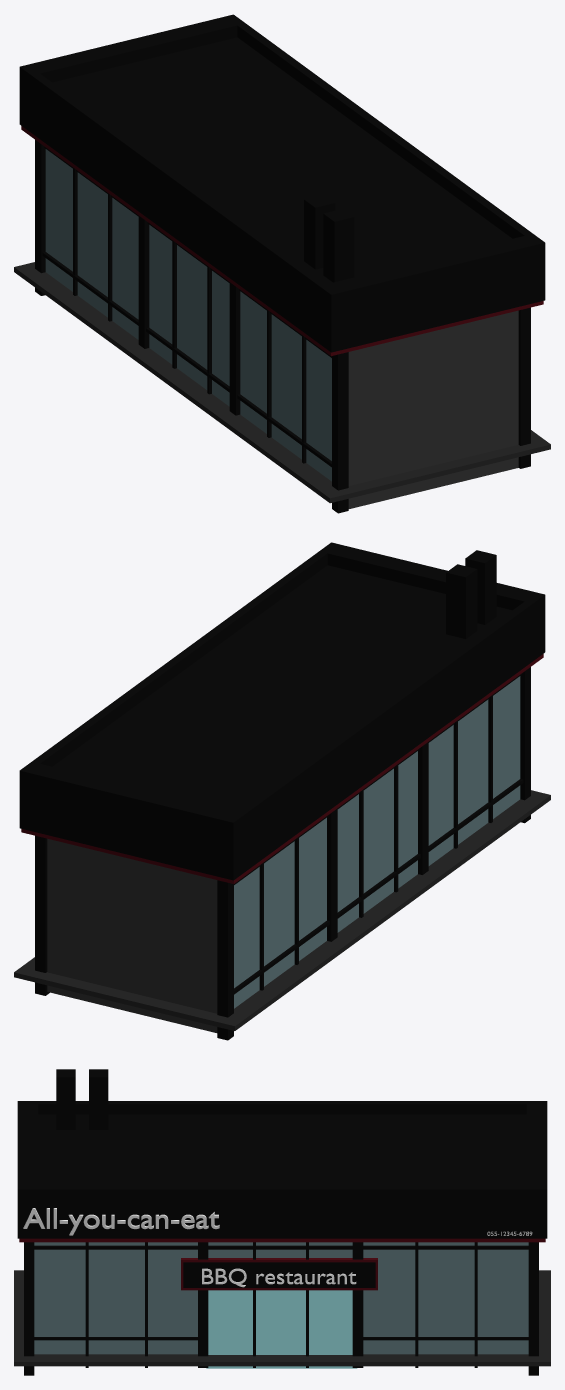
The model's file is Restaurant.fbx.
The picture shows the model from 3 angles, top to bottom: view 1: azimuth 30°, elevation 25°; view 2: azimuth 150°, elevation 25°; view 3: azimuth 270°, elevation 25°; orthographic projection. The views are drawn at different scales.
Visible parts, largest first — view 1: Cube.002, Cube.001, Cube.032, Cube, Cube.005, Cube.040, Cube.037, Cube.003, Cube.038, Cube.010, Cube.008, Cube.006 (+8 smaller); view 2: Cube.002, Cube.001, Cube.033, Cube, Cube.006, Cube.040, Cube.038, Cube.004, Cube.037, Cube.005, Cube.008, Cube.010 (+8 smaller); view 3: Cube.002, Cube.001, Cube.039, Cube, Cube.011, Cube.040, Text.001, Cube.041, Cube.003, Cube.004, Cube.037, Cube.038 (+11 smaller).
Part boxes in pixels (x1,y1,x2,y2): Cube.002: (19, 14, 545, 352); Cube.001: (45, 149, 331, 481); Cube.032: (348, 310, 518, 508); Cube: (14, 262, 550, 503); Cube.005: (332, 352, 348, 513); Cube.040: (21, 126, 543, 356); Cube.037: (323, 209, 354, 282); Cube.003: (518, 307, 530, 468); Cube.038: (304, 194, 335, 269); Cube.010: (229, 282, 240, 415); Cube.008: (138, 216, 149, 348); Cube.006: (35, 140, 45, 295); Cube.002: (19, 542, 545, 880); Cube.001: (234, 676, 520, 1008); Cube.033: (47, 838, 217, 1032); Cube: (14, 790, 550, 1030); Cube.006: (217, 880, 233, 1040); Cube.040: (21, 654, 543, 883); Cube.038: (446, 564, 477, 638); Cube.004: (35, 835, 49, 995); Cube.037: (465, 550, 496, 624); Cube.005: (520, 667, 530, 823); Cube.008: (327, 808, 337, 941); Cube.010: (418, 742, 428, 874); Cube.002: (17, 1101, 547, 1238); Cube.001: (34, 1242, 528, 1354); Cube.039: (206, 1290, 357, 1368); Cube: (14, 1270, 550, 1366); Cube.011: (183, 1262, 375, 1287); Cube.040: (19, 1238, 545, 1242); Text.001: (23, 1208, 219, 1235); Cube.041: (181, 1258, 377, 1290); Cube.003: (24, 1242, 34, 1375); Cube.004: (528, 1242, 538, 1375); Cube.037: (56, 1069, 75, 1129); Cube.038: (89, 1069, 108, 1129).
Size of the model in its own units: 2242 by 2658 by 5551.
